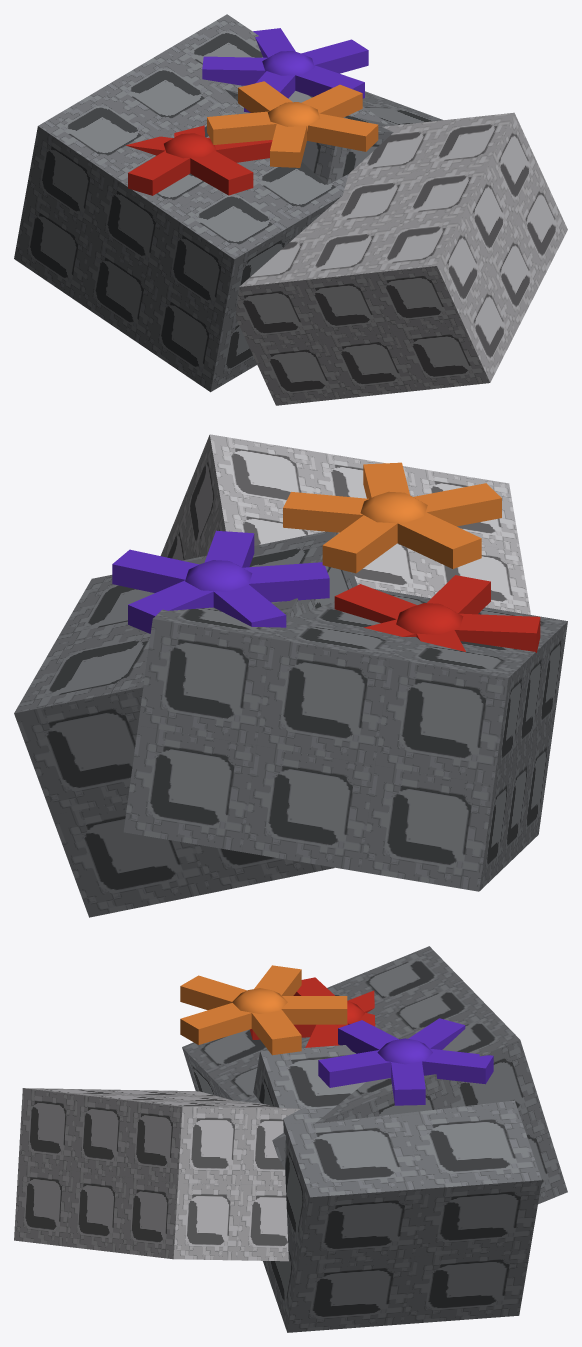
File: PolarSeaStars.glb
3 renders of one model, top to bottom at view 1: azimuth 30°, elevation 25°; view 2: azimuth 150°, elevation 25°; view 3: azimuth 270°, elevation 25°, orthographic. The views are drawn at different scales.
Visible parts, largest first — view 1: PolarSeaStars; view 2: PolarSeaStars; view 3: PolarSeaStars.
Boxes of the visible parts, bbox=[...] form: PolarSeaStars: bbox=[14, 14, 567, 405]; PolarSeaStars: bbox=[14, 434, 567, 917]; PolarSeaStars: bbox=[14, 946, 567, 1332].
Size of the model in its own units: 4.91 by 3.11 by 5.72.
1 material, 1 textured.
